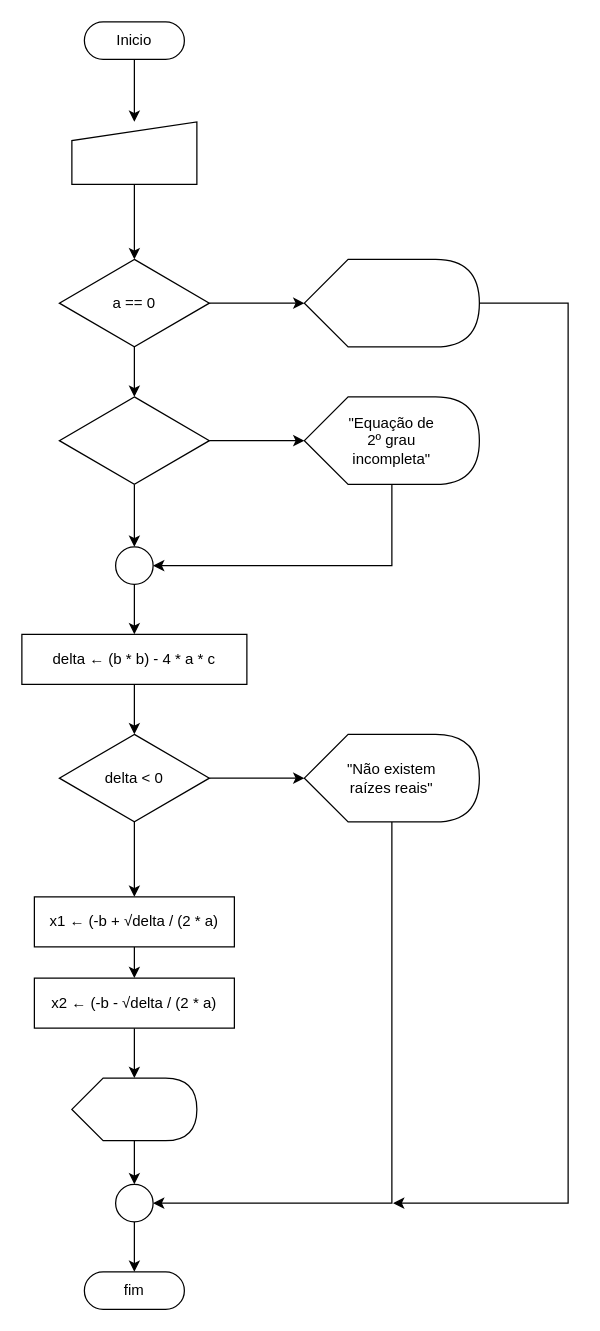
The diagram is 600 pixels wide and 1331 high, and some of its shapes have lost their labels. Each missing label, with the centre of its shape:
"Esta é uma e quação de 1º grau": [391,302]
a, b, c: [134,152]
b == 0 || c == 0: [133,440]
x1, x2: [134,1109]
